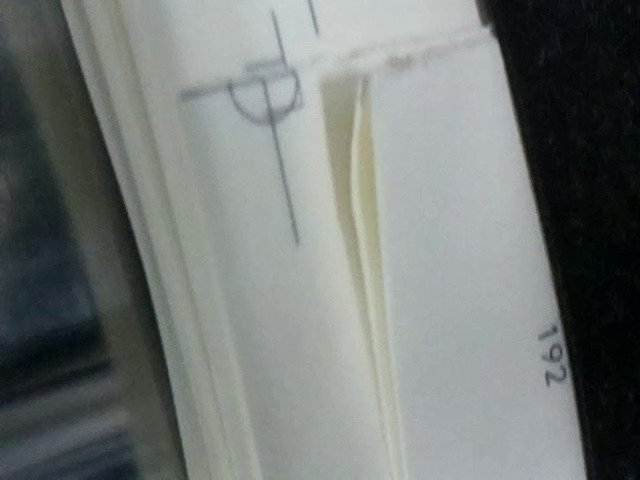misaligned: (179, 9, 308, 128)
